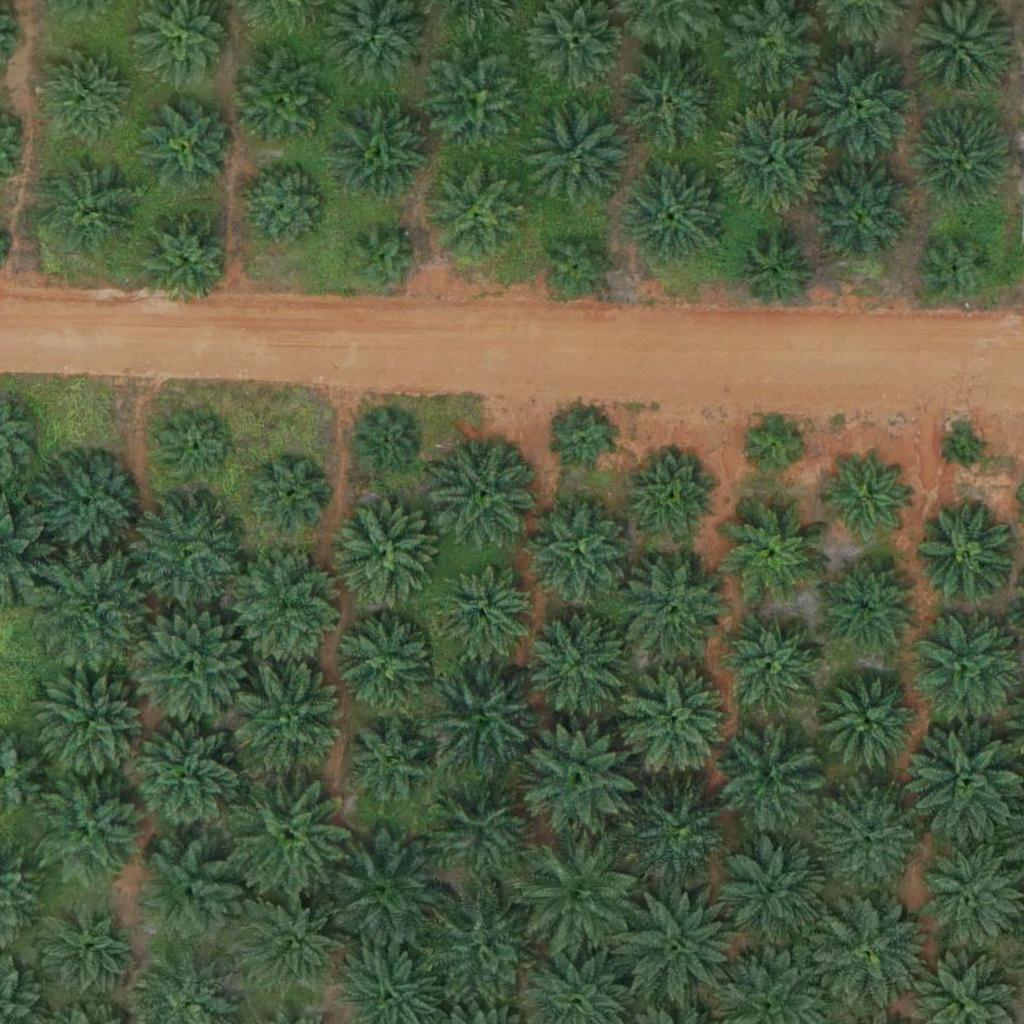Kelapa_Sawit: (32, 551, 157, 677), (126, 716, 251, 842), (227, 658, 352, 784), (226, 773, 351, 899), (322, 829, 447, 955), (418, 649, 543, 775), (417, 768, 542, 894), (417, 884, 542, 1010), (518, 718, 643, 844), (516, 836, 641, 962), (613, 884, 738, 1010), (614, 661, 739, 786), (804, 892, 929, 1017), (38, 669, 151, 783), (804, 48, 917, 161), (36, 774, 149, 887), (29, 892, 142, 1005), (130, 840, 243, 953), (230, 551, 343, 664), (133, 607, 245, 721), (238, 886, 350, 1000), (717, 109, 829, 222), (128, 492, 240, 605), (910, 605, 1022, 718), (811, 166, 911, 267), (620, 57, 720, 158), (624, 164, 724, 265), (527, 102, 627, 203), (428, 51, 528, 152), (428, 163, 528, 264), (329, 105, 429, 206), (234, 49, 334, 150), (335, 501, 435, 602), (334, 616, 434, 717), (437, 442, 537, 543), (431, 563, 531, 664), (528, 499, 628, 600), (528, 611, 628, 712), (623, 556, 723, 657), (631, 783, 731, 884), (725, 503, 825, 604), (720, 618, 820, 719), (721, 732, 821, 833), (725, 836, 825, 937), (817, 555, 917, 656), (819, 671, 919, 772), (816, 787, 916, 888), (914, 108, 1014, 208), (135, 207, 235, 307), (41, 157, 141, 257), (36, 455, 136, 555), (341, 712, 441, 812), (917, 500, 1017, 600), (240, 163, 328, 251), (822, 455, 910, 543), (145, 103, 232, 191), (41, 46, 128, 134), (634, 452, 721, 540), (157, 413, 232, 489), (920, 230, 995, 306), (346, 222, 421, 298), (254, 457, 329, 532), (738, 236, 813, 311), (542, 230, 617, 305), (355, 411, 418, 474), (555, 409, 617, 472), (741, 410, 803, 473), (948, 430, 985, 468)
